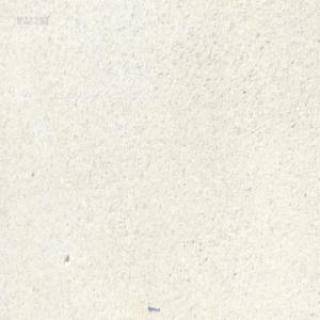Nailtrack_idkeyframe: (146, 301, 159, 310)
